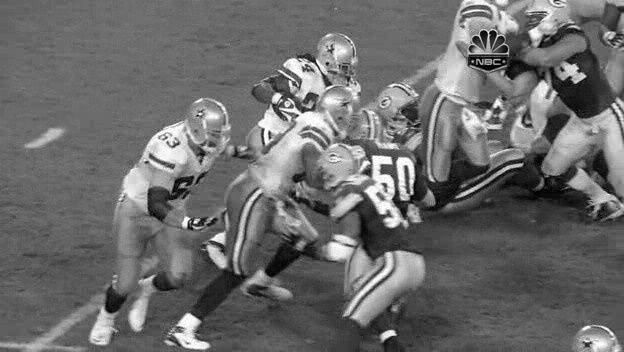person: (324, 30, 359, 75), (323, 30, 358, 75), (325, 30, 360, 75), (324, 29, 359, 74), (324, 31, 359, 76)
target_negative: (7, 151, 200, 268), (160, 248, 553, 284), (274, 2, 452, 79), (294, 244, 510, 278), (207, 256, 492, 266), (143, 329, 316, 337)
